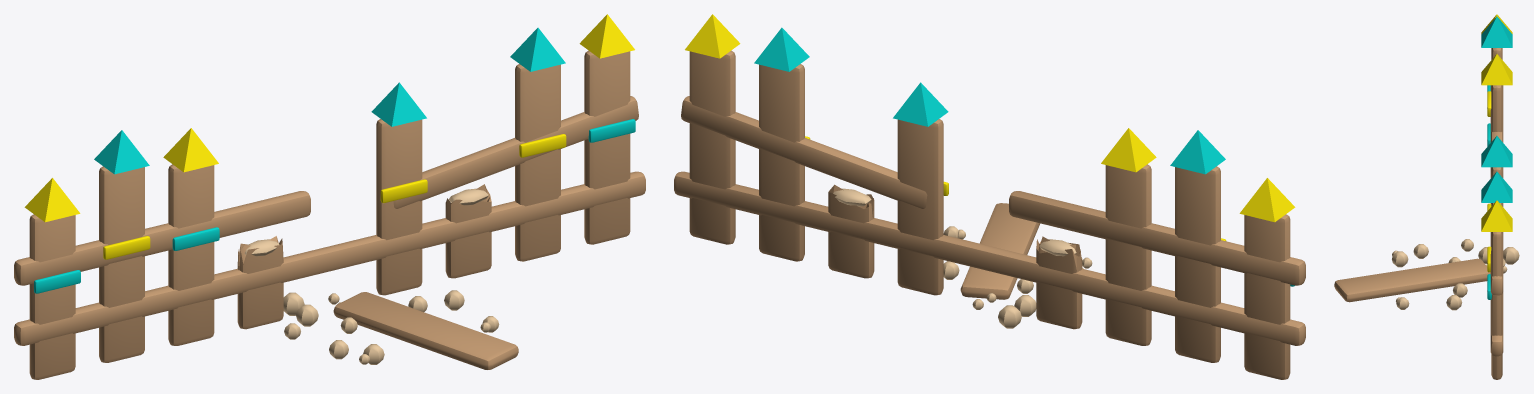
The model's file is TW_CrackedFence.fbx.
3 views of the same model, side by side, from view 1: azimuth 30°, elevation 25°; view 2: azimuth 150°, elevation 25°; view 3: azimuth 270°, elevation 25° (orthographic). The views are drawn at different scales.
Visible parts, largest first — view 1: Body; view 2: Body; view 3: Body.
Part boxes in pixels (x1,y1,x2,y2): Body: [14, 14, 645, 379]; Body: [674, 14, 1305, 379]; Body: [1334, 14, 1519, 379].
Size of the model in its own units: 6 by 2.16 by 2.
